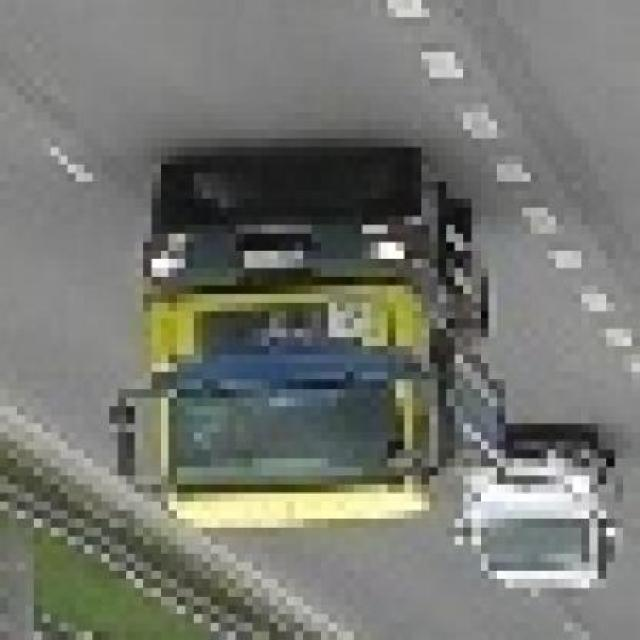truck: (110, 174, 490, 546)
